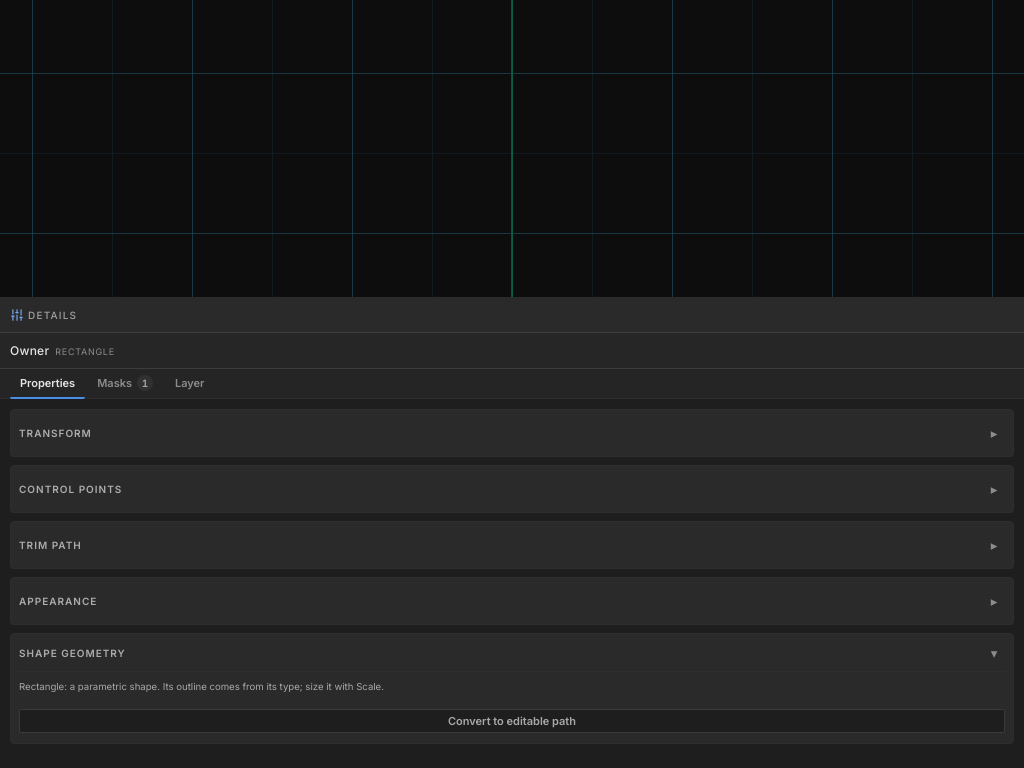
Test case: WP-02 canvas mask editing mode › cancels a between-key path gesture inside its batch: no history entry, redo kept
(page scrolled)
Press the mouse on the tab "Masks 1" at (125, 384), box [87,369,163,399]
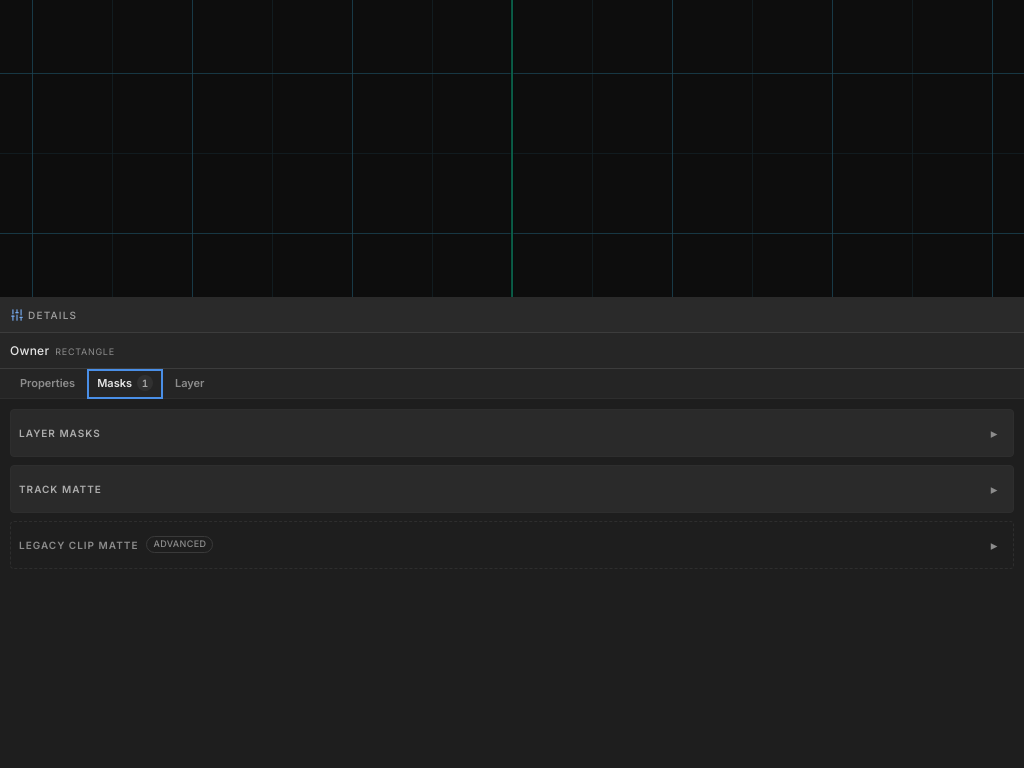
Click the button named "Expand LAYER MASKS" at (994, 432), box [978,416,1010,448]
(page scrolled)
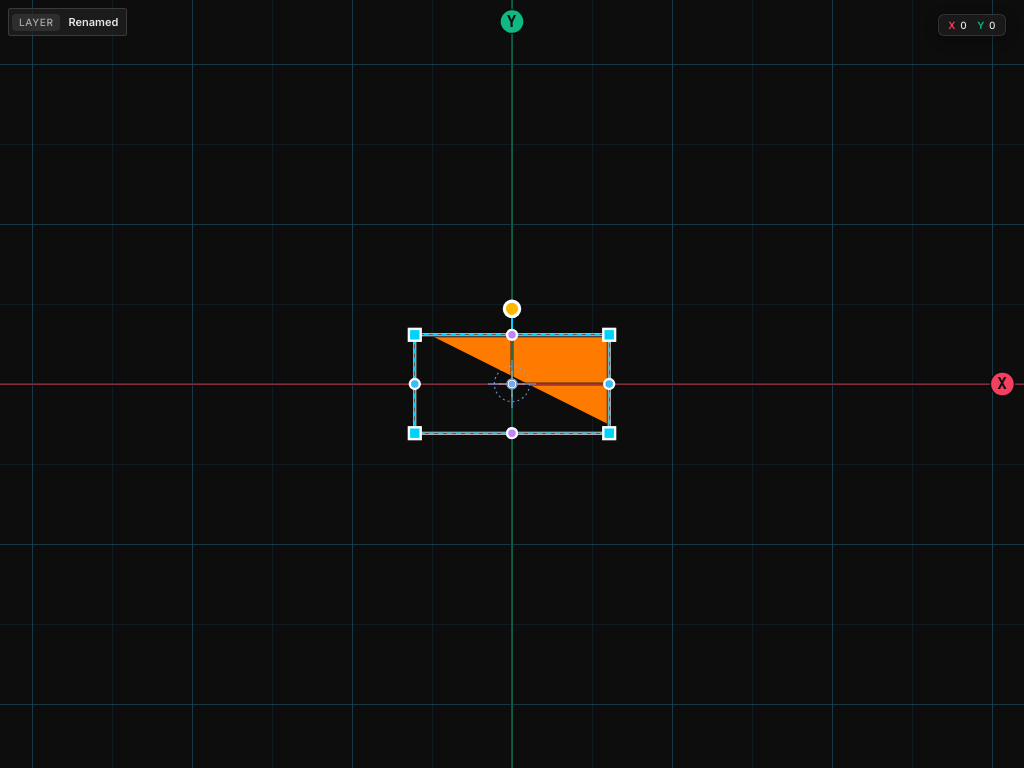
Check: the text "Renamed" is shown, box [68,15,118,29]
